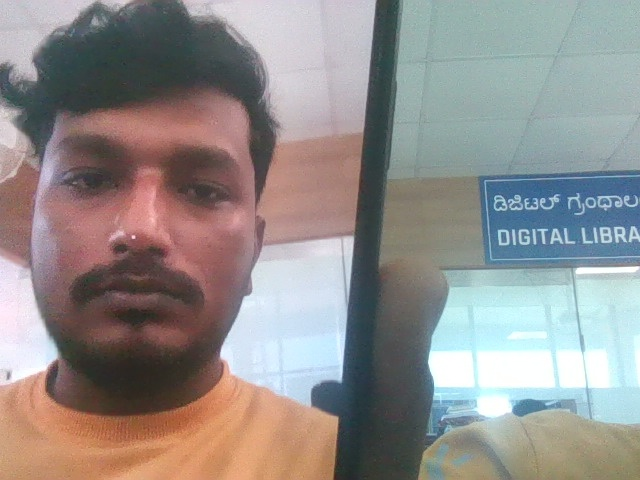fake: (0, 0, 303, 430)
